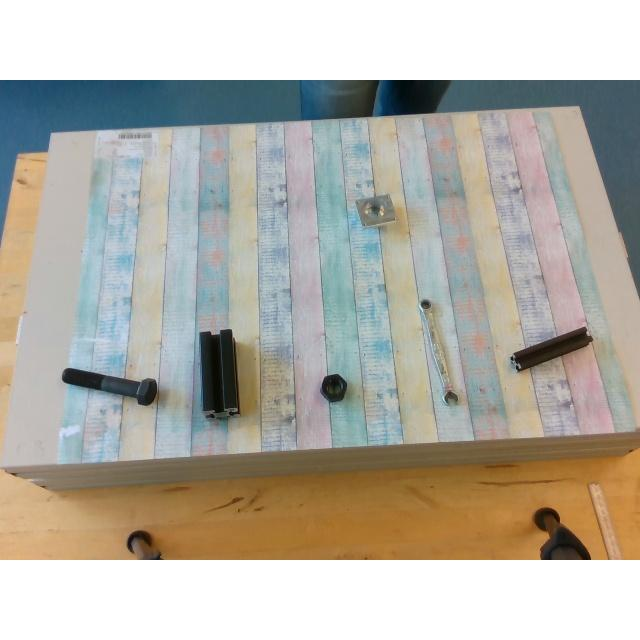F20_20_B: (510, 326, 592, 370)
M20: (320, 373, 348, 402)
M20_100: (62, 367, 156, 403)
S40_40_B: (200, 329, 238, 417)
Wrench: (415, 297, 461, 407)
